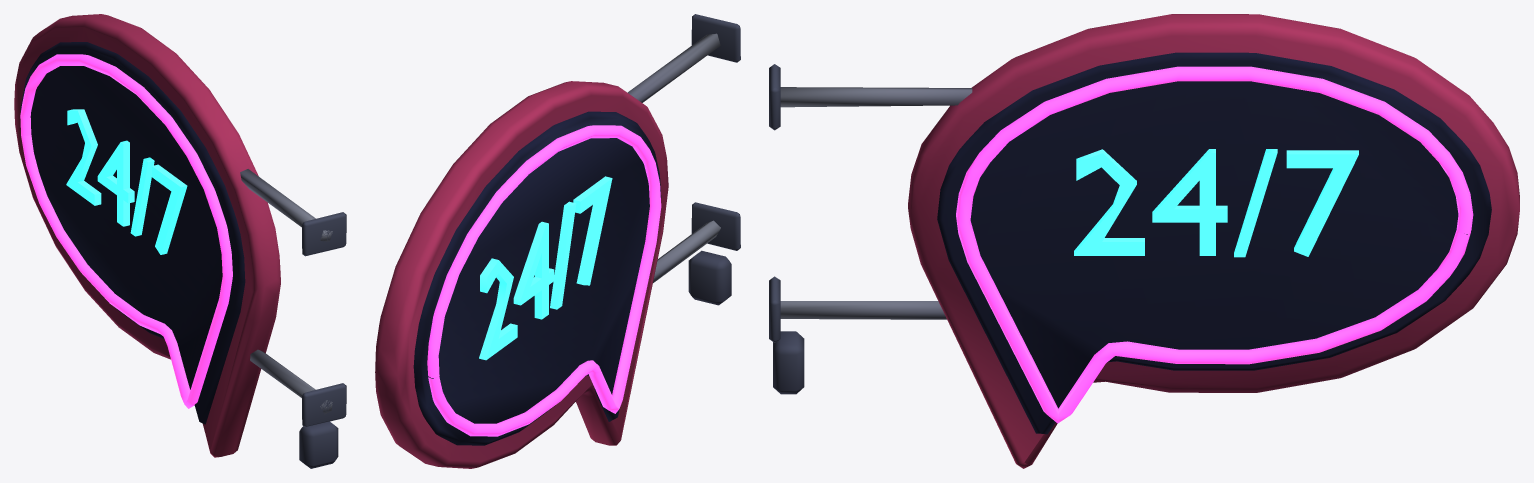
Rendered from enseigne_bulle.glb.
3 renders of one model, left to right at view 1: azimuth 30°, elevation 25°; view 2: azimuth 150°, elevation 25°; view 3: azimuth 270°, elevation 25°, orthographic. The views are drawn at different scales.
Parts seen in each view (by area): view 1: enseigne_bulle, tube.001, texte.001; view 2: enseigne_bulle, tube.001, texte.001; view 3: enseigne_bulle, tube, texte.
Boxes of the visible parts, <box> form: enseigne_bulle: <box>14,14,346,468</box>; tube.001: <box>20,54,232,408</box>; texte.001: <box>66,109,187,254</box>; enseigne_bulle: <box>375,14,740,468</box>; tube.001: <box>427,125,661,436</box>; texte.001: <box>479,176,612,360</box>; enseigne_bulle: <box>769,14,1519,468</box>; tube: <box>956,66,1473,423</box>; texte: <box>1074,149,1358,257</box>.
Size of the model in its own units: 0.1863 by 1.26 by 1.92.
